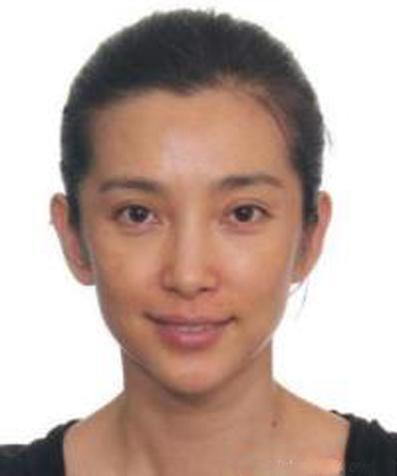unmask: (74, 101, 300, 377)
